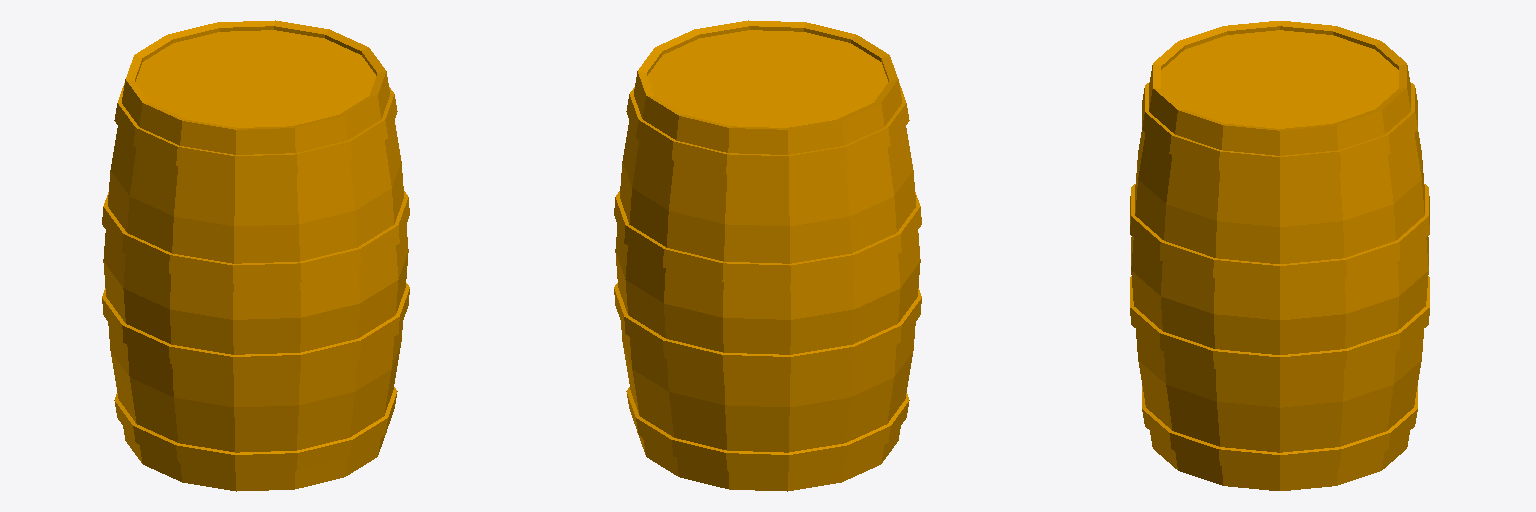
URDF robot description (mesh_object):
<robot name="mesh_object">
            <link name="base">
                <visual>
                    <geometry>
                        <mesh filename="keg_0.obj" scale="1 1 1" />
                    </geometry>
                </visual>
                <collision>
                    <geometry>
                        <mesh filename="keg_0.obj" scale="1 1 1" />
                    </geometry>
                </collision>
                <inertial>
                    <origin xyz="0.000000 0.000000 0.018480" rpy="0 0 0" />
                    <mass value="0.5" />
                    <inertia ixx="0.01" iyy="0.01" izz="0.01" ixy="0" ixz="0" iyz="0" />
                </inertial>
            </link>
            </robot>

--- Facts derived from the render (not from the file) ---
3 views of the same robot in one strip: view 1: azimuth 30°, elevation 25°; view 2: azimuth 150°, elevation 25°; view 3: azimuth 270°, elevation 25° (orthographic).
Robot: mesh_object — 1 links, 0 joints (none); root link base; default pose: every joint at zero.
Visible links, largest first — view 1: base; view 2: base; view 3: base.
Boxes of the visible links, box(x1,y1,x2,y2) form: base: box(102, 20, 409, 491); base: box(614, 20, 921, 491); base: box(1130, 21, 1429, 490).
Size in the robot's own frame: 0.0286 by 0.0279 by 0.037 metres.
1 mesh visuals loaded from 1 distinct referenced files (1 OBJ).
